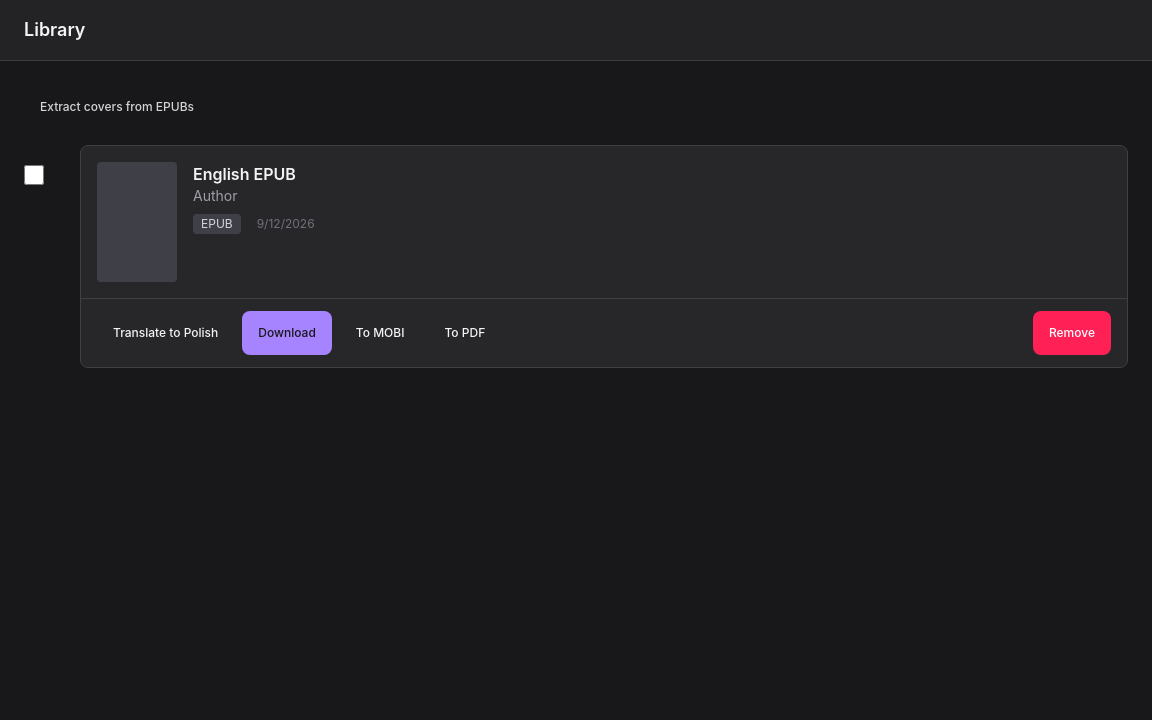
Test: LibraryView translation integration › opens estimate without starting, confirms, shows progress, and cleans polling on unmount
Click the button with test id "translate-btn" at (166, 333), box [97,311,234,355]
(page scrolled)
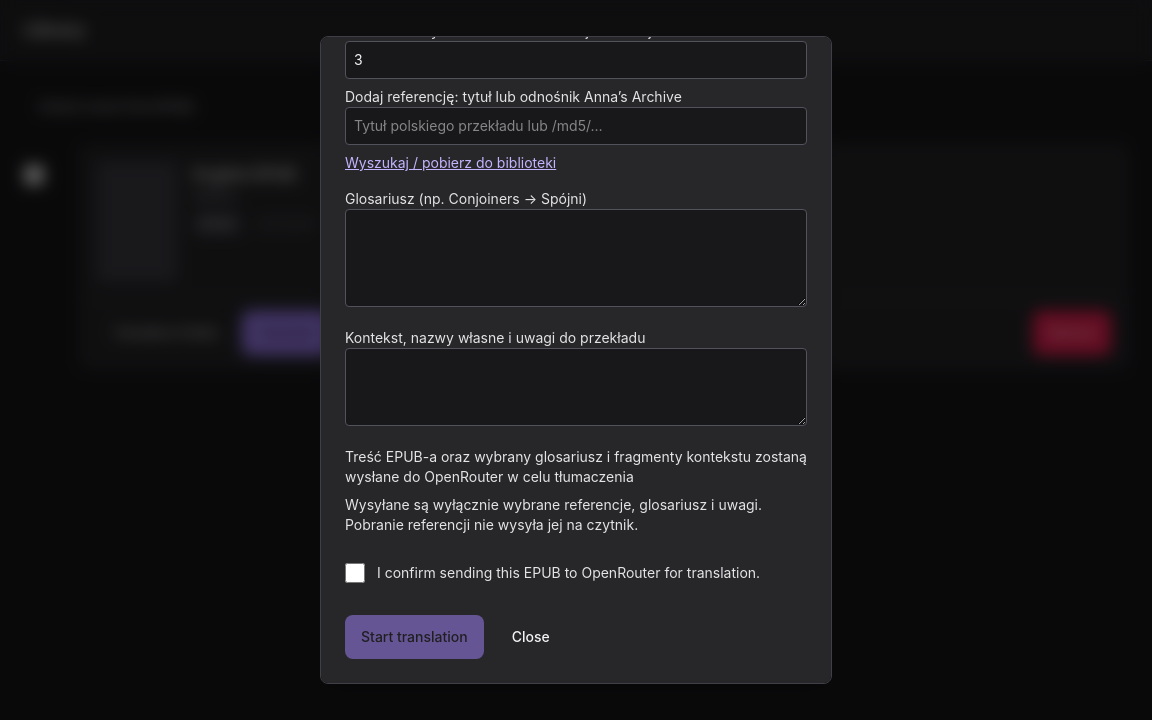
Click the checkbox with test id "external-processing-confirmation" at (355, 573), box [345,563,365,583]
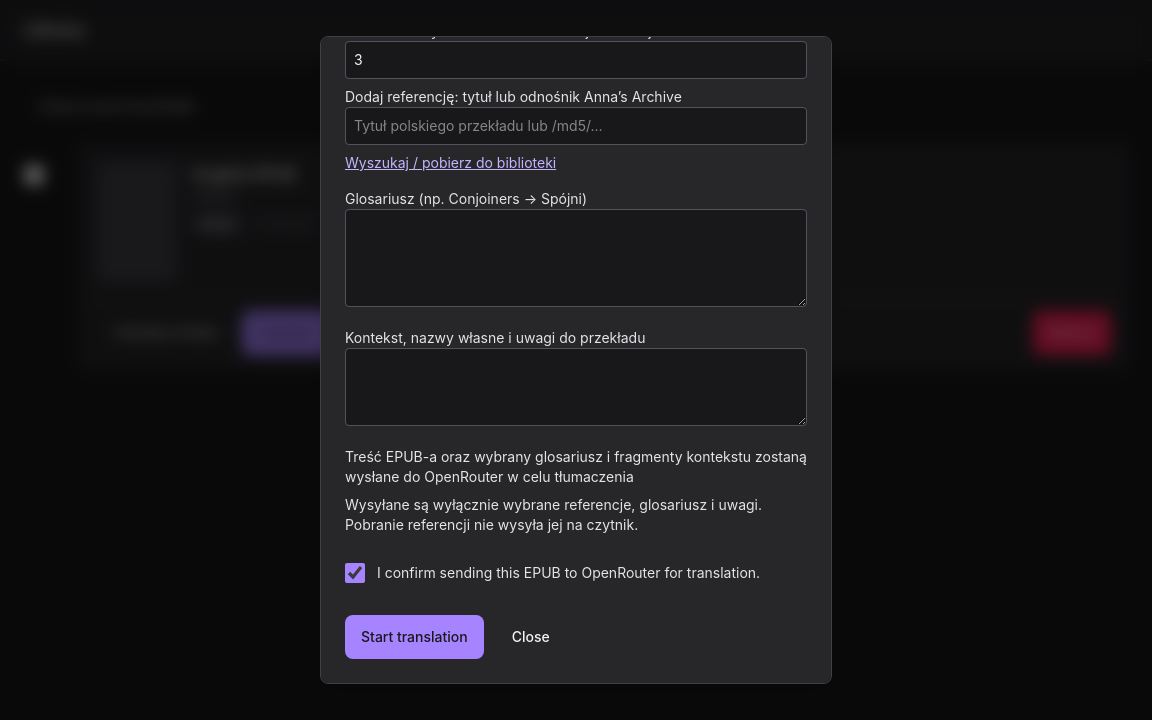
Click the button with test id "translation-start-btn" at (414, 637), box [345,615,484,659]
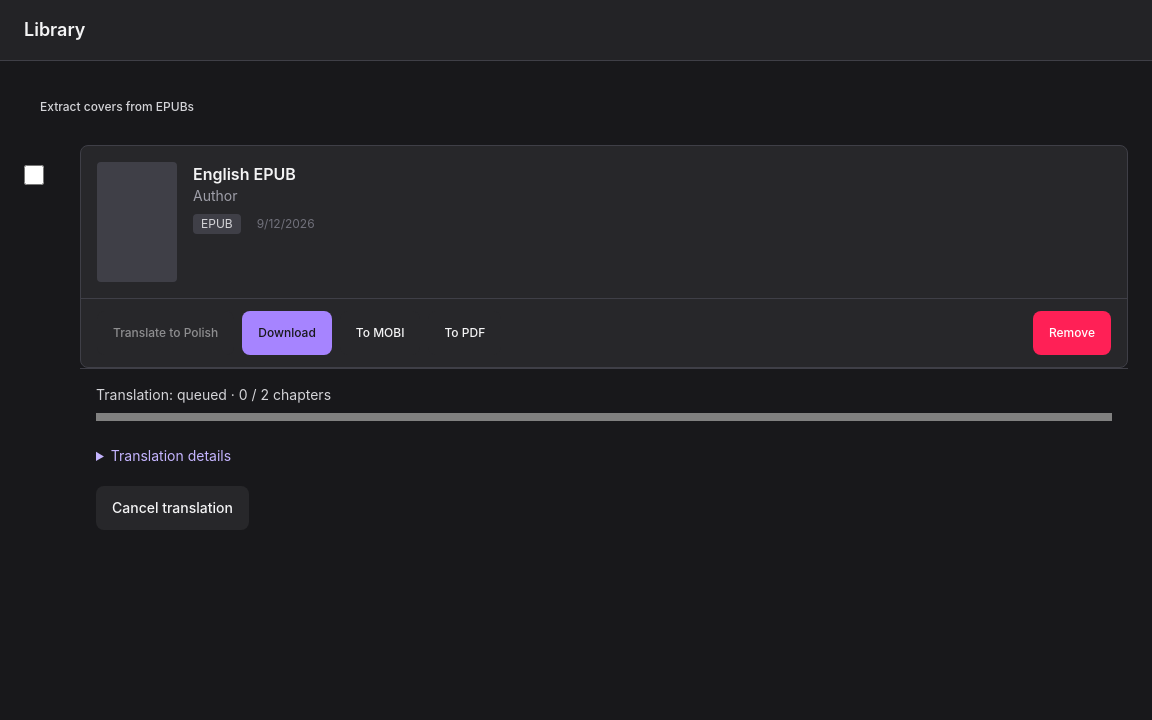
Check: the element named "Translation progress" shows "0 / 2", box [96,386,331,403]
Check: the button with test id "translate-btn" is disabled, box [97,311,234,355]
